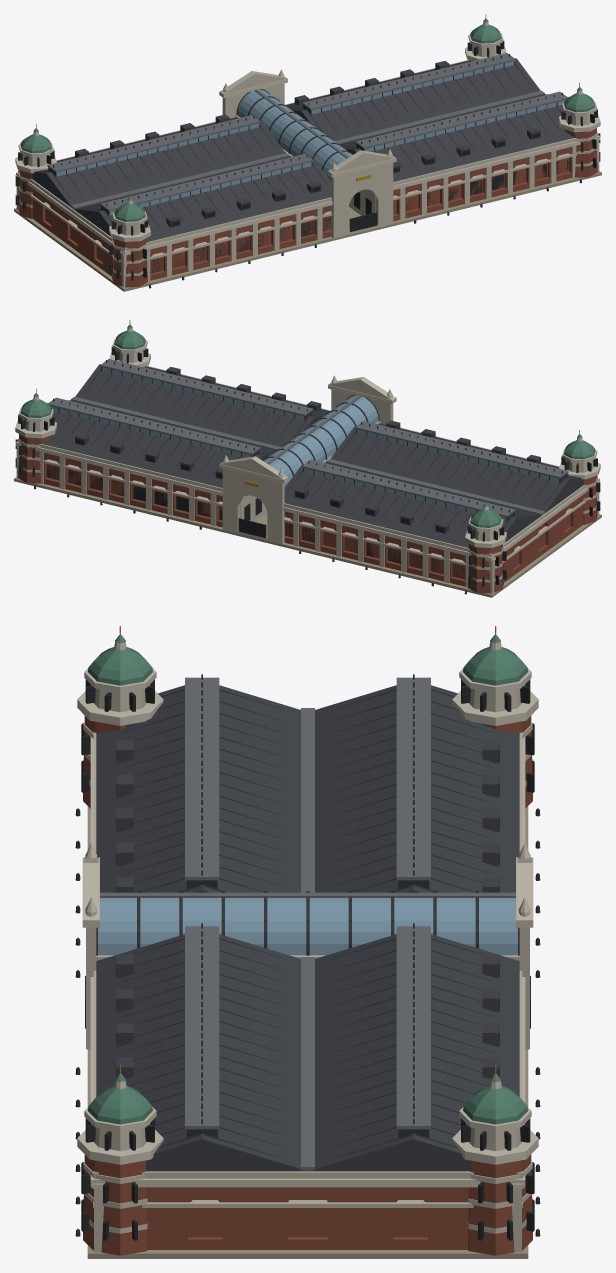
File: smithfield_market.glb
3 renders of one model, top to bottom at view 1: azimuth 30°, elevation 25°; view 2: azimuth 150°, elevation 25°; view 3: azimuth 270°, elevation 25°, orthographic. The views are drawn at different scales.
Parts seen in each view (by area): view 1: smithfield_market; view 2: smithfield_market; view 3: smithfield_market.
Part boxes in pixels (x1,y1,x2,y2): smithfield_market: [14, 14, 601, 291]; smithfield_market: [14, 320, 601, 597]; smithfield_market: [75, 626, 540, 1258].
Bounding box in the file's own units: 197 × 34.7 × 81.24.
